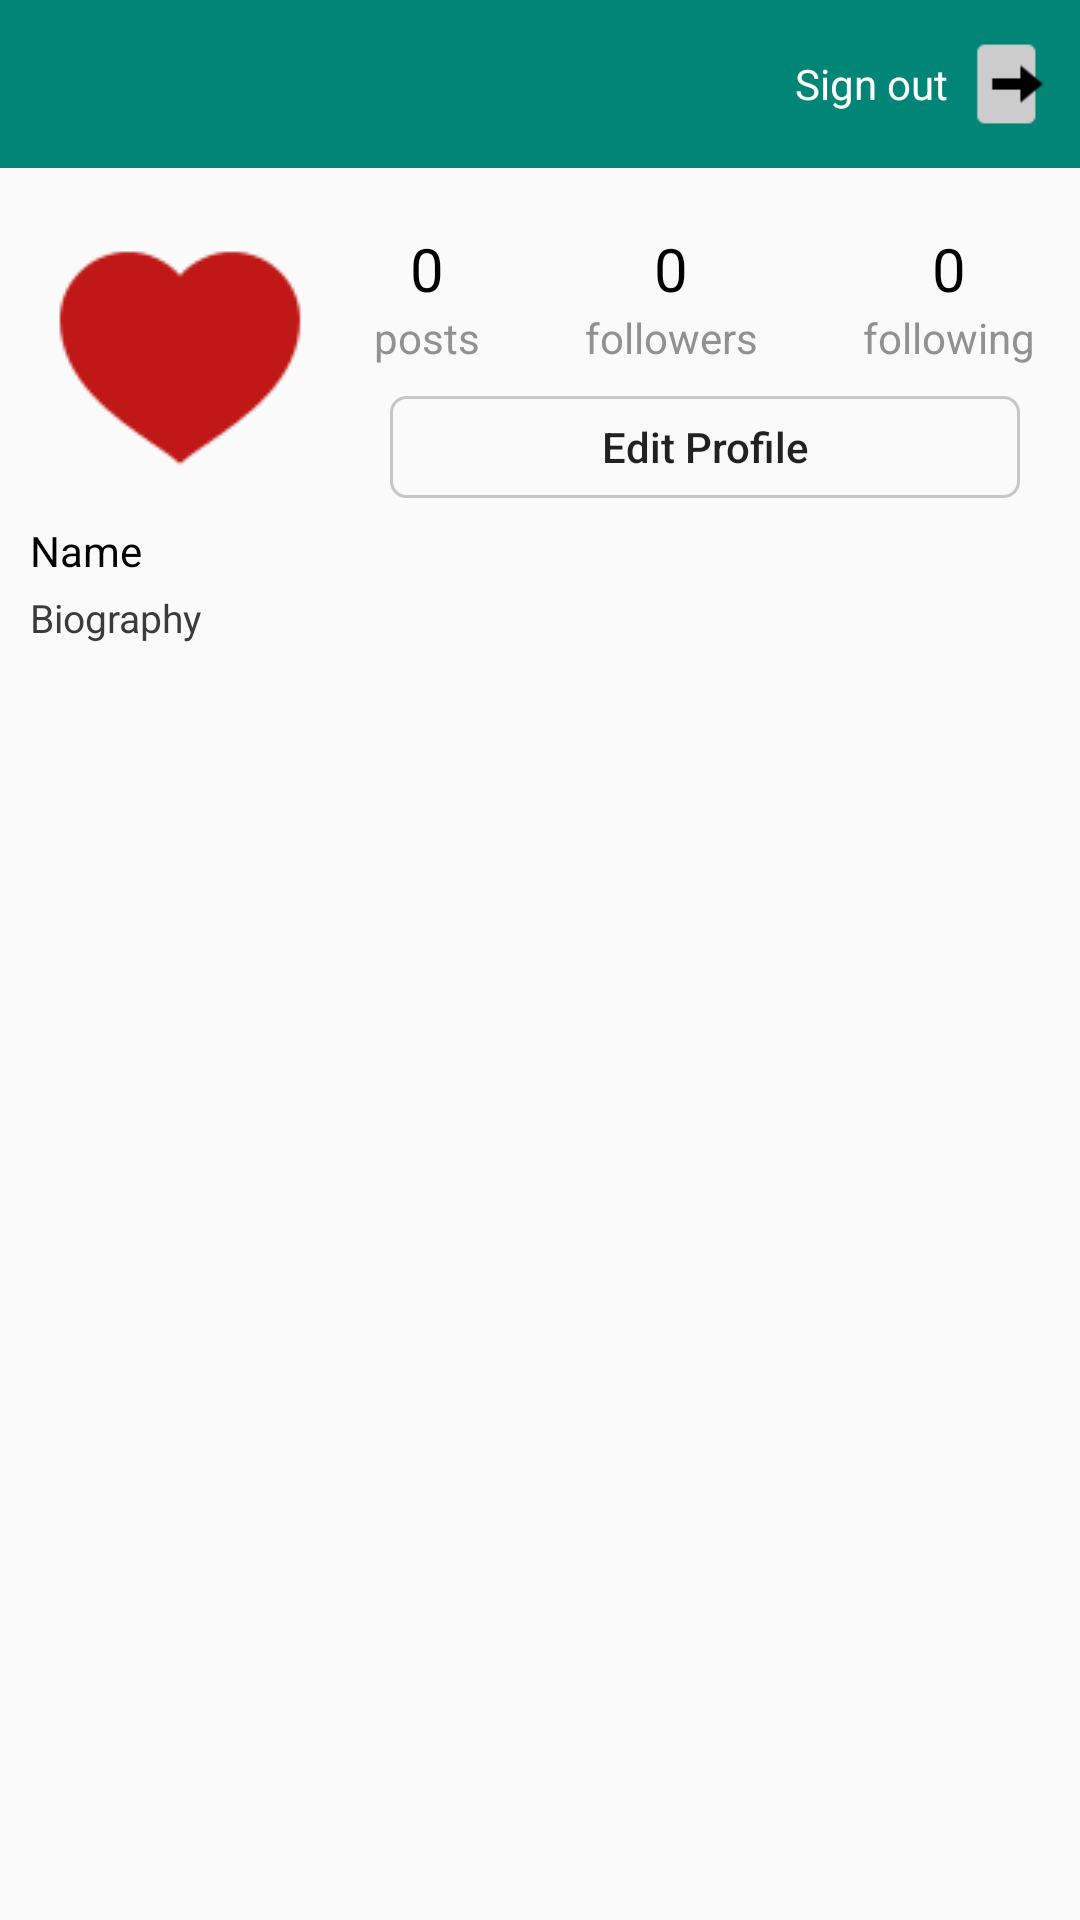

Icons on this 1080px×1920px Android screen, each with the point to tap as point (x, y):
like: point (180, 358)
